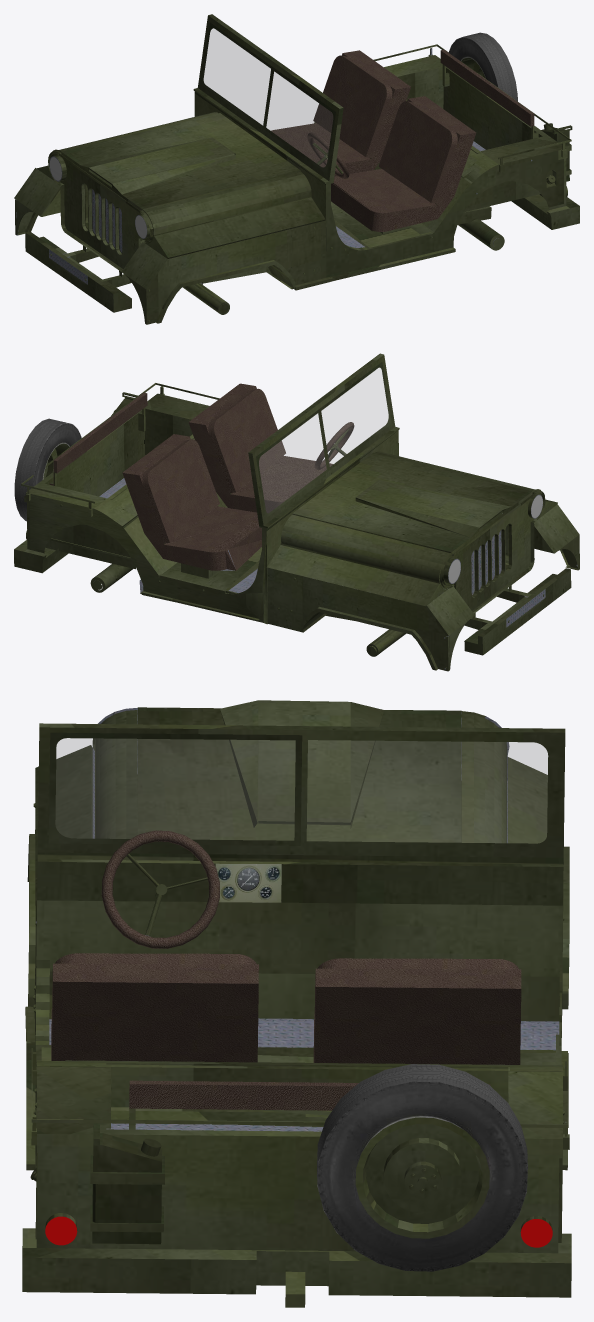
File: jeep.glb
3 renders of one model, top to bottom at view 1: azimuth 30°, elevation 25°; view 2: azimuth 150°, elevation 25°; view 3: azimuth 270°, elevation 25°, orthographic. The views are drawn at different scales.
Visible parts, largest first — view 1: ID2, ID128, ID3; view 2: ID2, ID128; view 3: ID2, ID128, ID3.
Boxes of the visible parts, x1,y1,x2,y2 form: ID2: (14, 14, 579, 324); ID128: (448, 32, 517, 101); ID3: (541, 123, 572, 181); ID2: (14, 353, 579, 671); ID128: (14, 418, 81, 521); ID2: (22, 700, 571, 1307); ID128: (317, 1064, 527, 1271); ID3: (90, 1123, 164, 1244).
Bounding box in the file's own units: 3.37 × 1.29 × 1.74.
16 materials, 12 textured.
